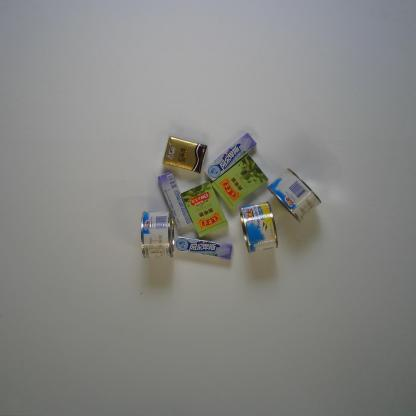Candy: (211, 153, 269, 210), (180, 180, 230, 239), (204, 132, 258, 182), (157, 171, 193, 230), (173, 235, 234, 261)
Canned Food: (265, 167, 322, 223), (238, 201, 278, 254), (140, 209, 176, 259)
Tissue: (161, 135, 208, 174)
